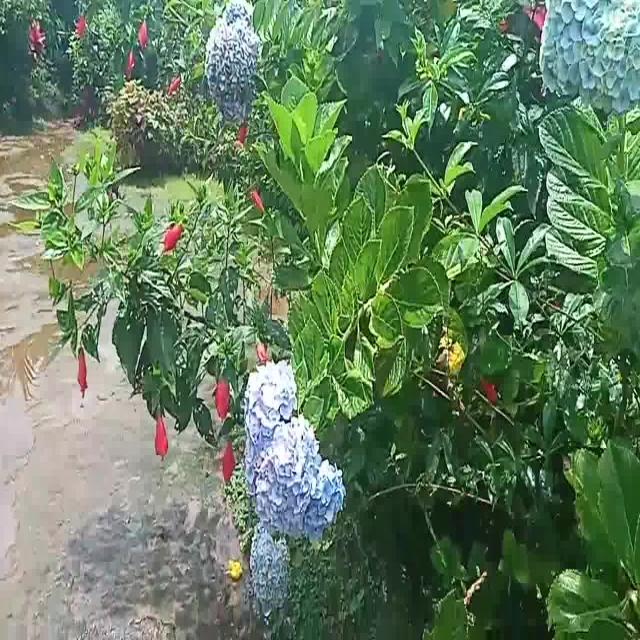Flower: (243, 357, 345, 527), (206, 4, 262, 118), (248, 531, 289, 606), (159, 211, 189, 255), (152, 406, 172, 465), (215, 362, 231, 422), (221, 437, 239, 489)
